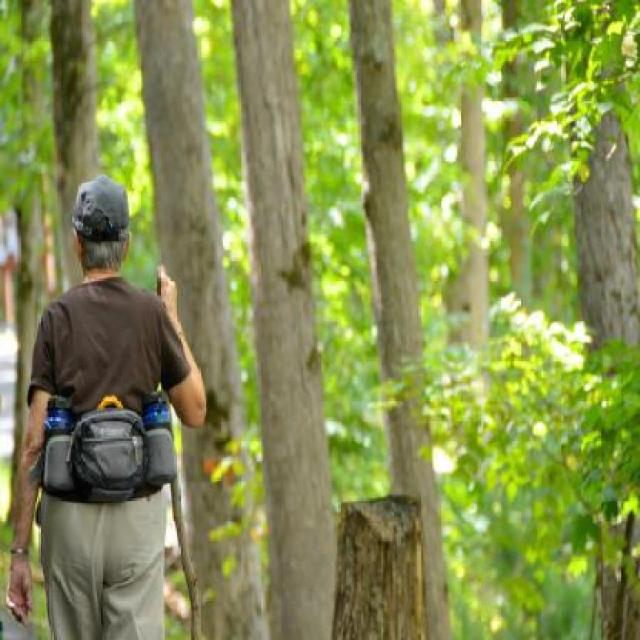backpack: (63, 392, 152, 503)
